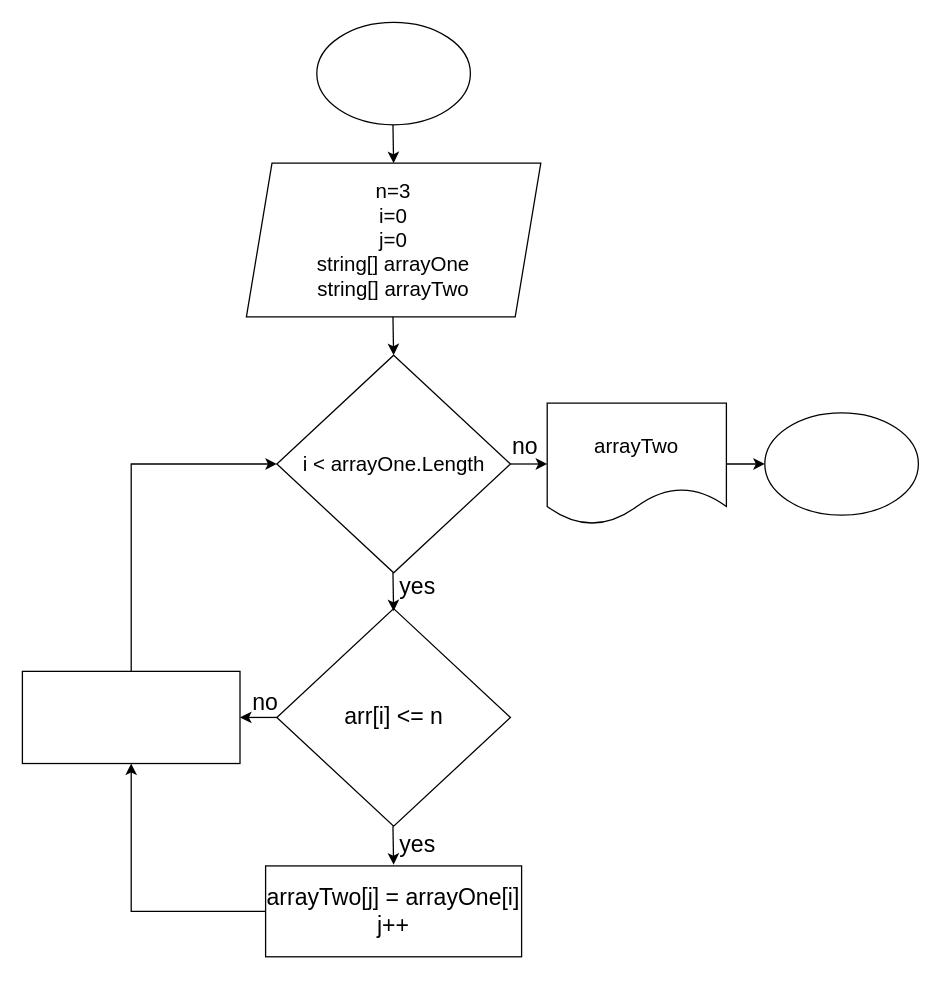
This 941x989 diagram has some shape labels left out. The shapes that lost their labels are listed below. From the top down, each one's centre as x and y in pixels, then its label:
At [393,73]: "start".
At [841,463]: "finish".
At [130,717]: "i++".
